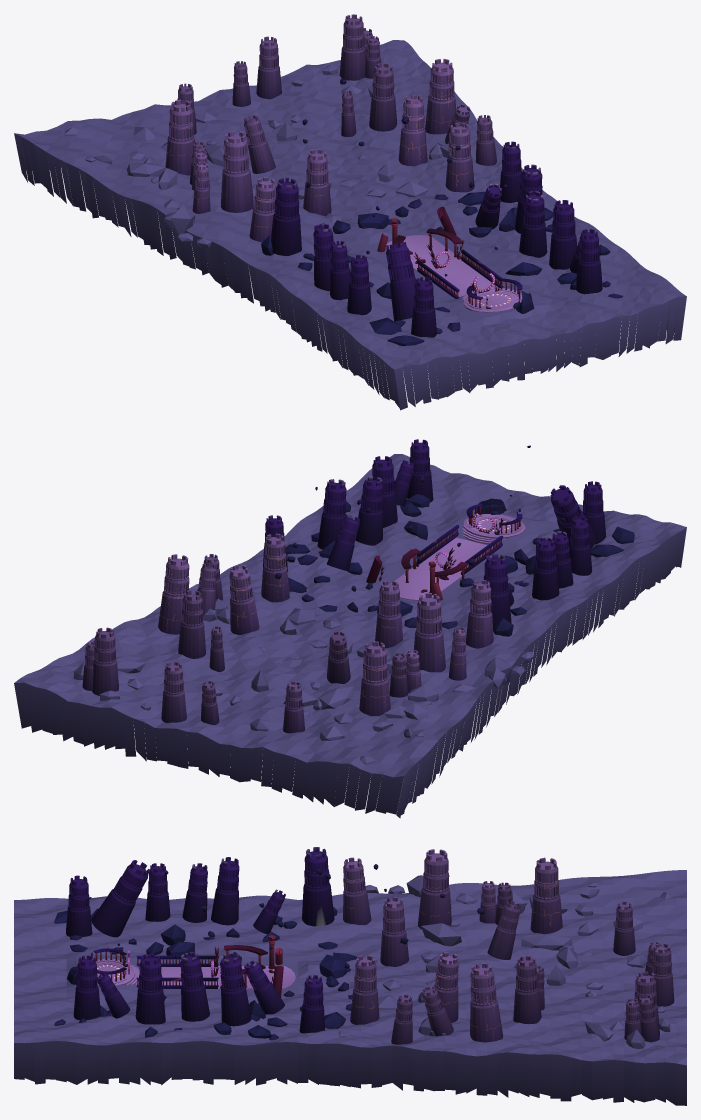
The model's file is arena.glb.
3 views of the same model, one above another, from view 1: azimuth 30°, elevation 25°; view 2: azimuth 150°, elevation 25°; view 3: azimuth 270°, elevation 25° (orthographic).
Visible parts, largest first — view 1: Terrain_and_Floating_Rocks, Arena_Columns_Props_Towers, polySurface11; view 2: Terrain_and_Floating_Rocks, Arena_Columns_Props_Towers, polySurface11; view 3: Terrain_and_Floating_Rocks, Arena_Columns_Props_Towers, polySurface11.
Boxes of the visible parts, x1,y1,x2,y2 form: Terrain_and_Floating_Rocks: (14,40,686,410); Arena_Columns_Props_Towers: (165,14,602,337); polySurface11: (385,235,522,312); Terrain_and_Floating_Rocks: (14,454,686,818); Arena_Columns_Props_Towers: (82,439,605,733); polySurface11: (391,514,525,600); Terrain_and_Floating_Rocks: (14,870,686,1105); Arena_Columns_Props_Towers: (66,847,674,1044); polySurface11: (95,958,295,988).
Size of the model in its own units: 48 by 15.68 by 70.65.
Materials: 39 (26 with a texture image).
